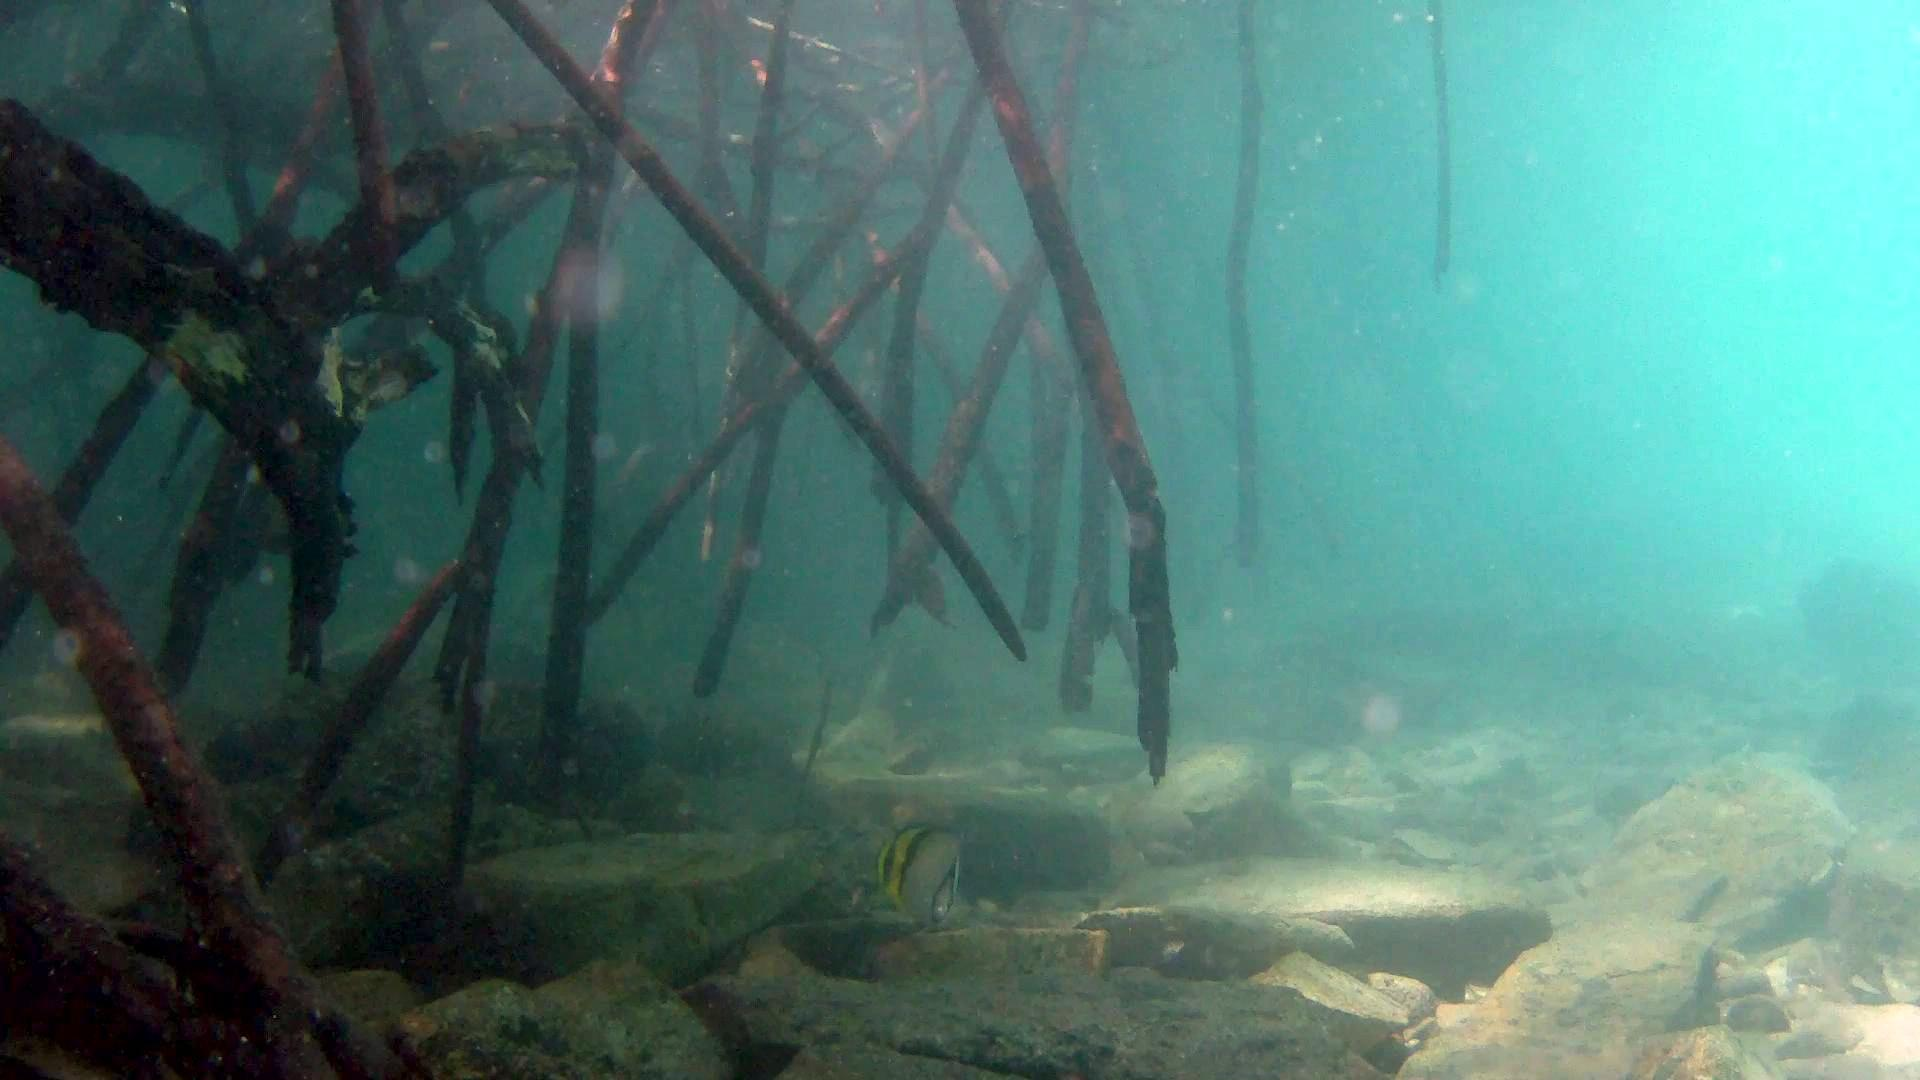chaetodon vagabundus: (874, 821, 963, 931)
